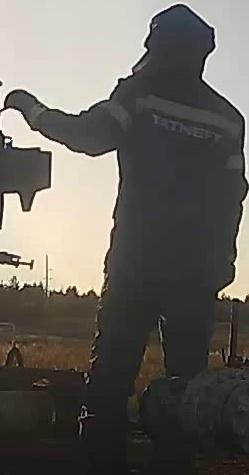gloves: (3, 88, 51, 129)
vest: (104, 84, 247, 298)
